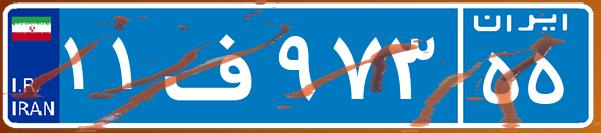1: (57, 26, 110, 107), (110, 28, 158, 105)
3: (385, 28, 445, 110)
5: (475, 38, 525, 113), (525, 38, 570, 115)
7: (330, 28, 385, 110)
9: (273, 28, 330, 110)
ف: (158, 15, 273, 115)
